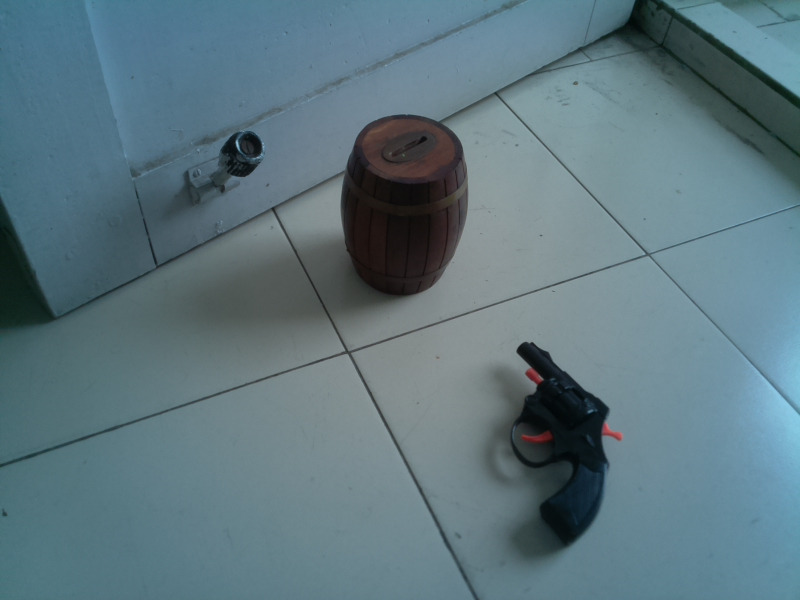Gun: (498, 334, 628, 551)
